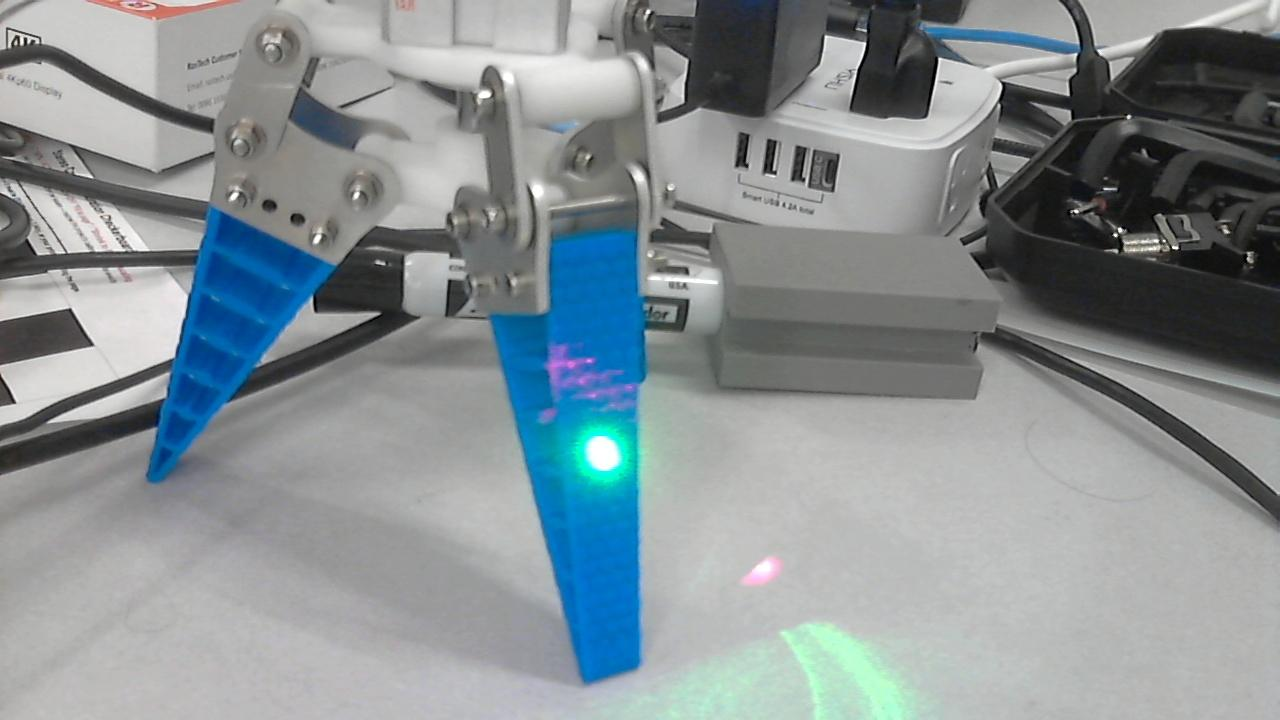Object robotic gripper finger assembly - Material plastic - Color blue - Pdfname: (537, 330, 640, 484)
